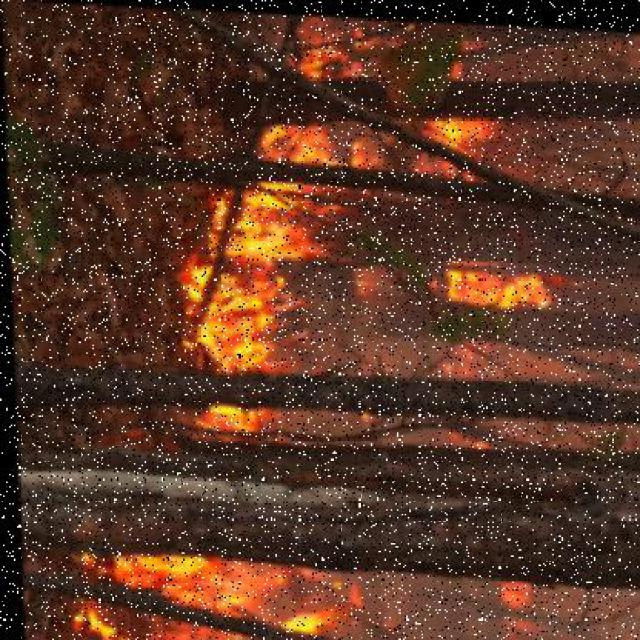fire: (206, 173, 333, 364), (87, 564, 329, 640), (434, 251, 556, 320), (484, 577, 547, 614), (434, 116, 503, 144)
